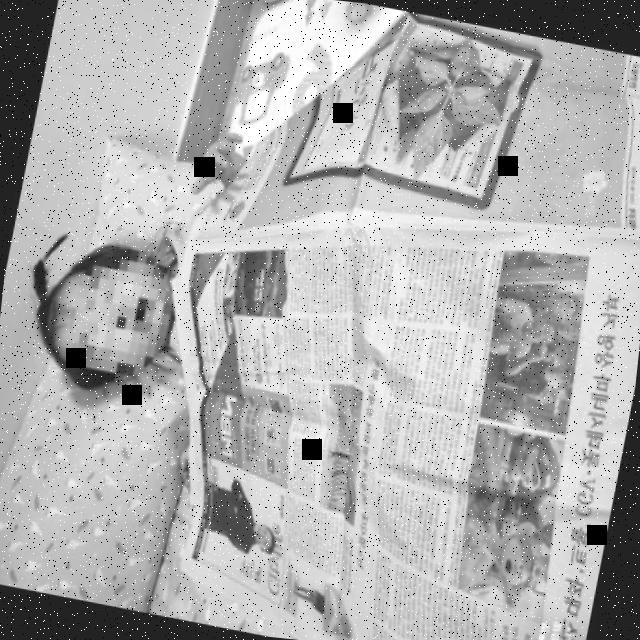reuseable_paper: (132, 0, 640, 640)
